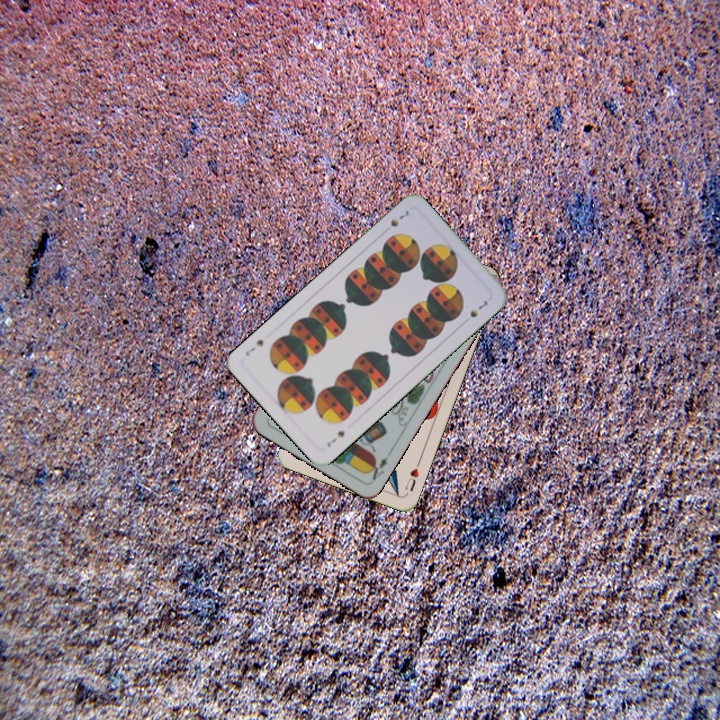EA: (363, 448, 393, 483)
HU: (401, 457, 423, 494)
S7: (386, 205, 412, 229), (323, 427, 347, 450)
